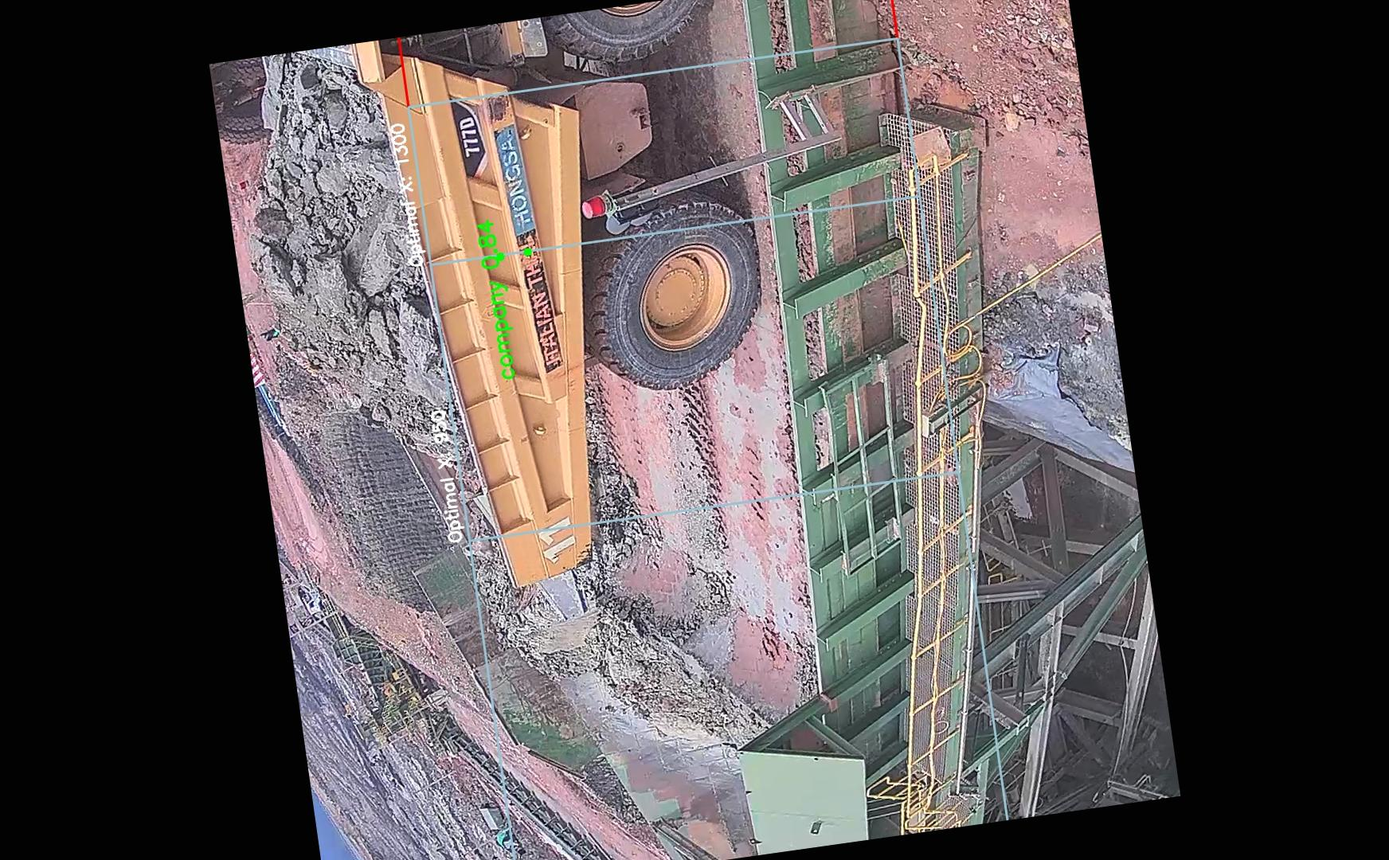company: (485, 102, 578, 378)
full_load: (228, 68, 462, 461)
mining_truck: (211, 0, 799, 616)
tail_number: (526, 504, 587, 575)
truck_size: (445, 99, 493, 184)
